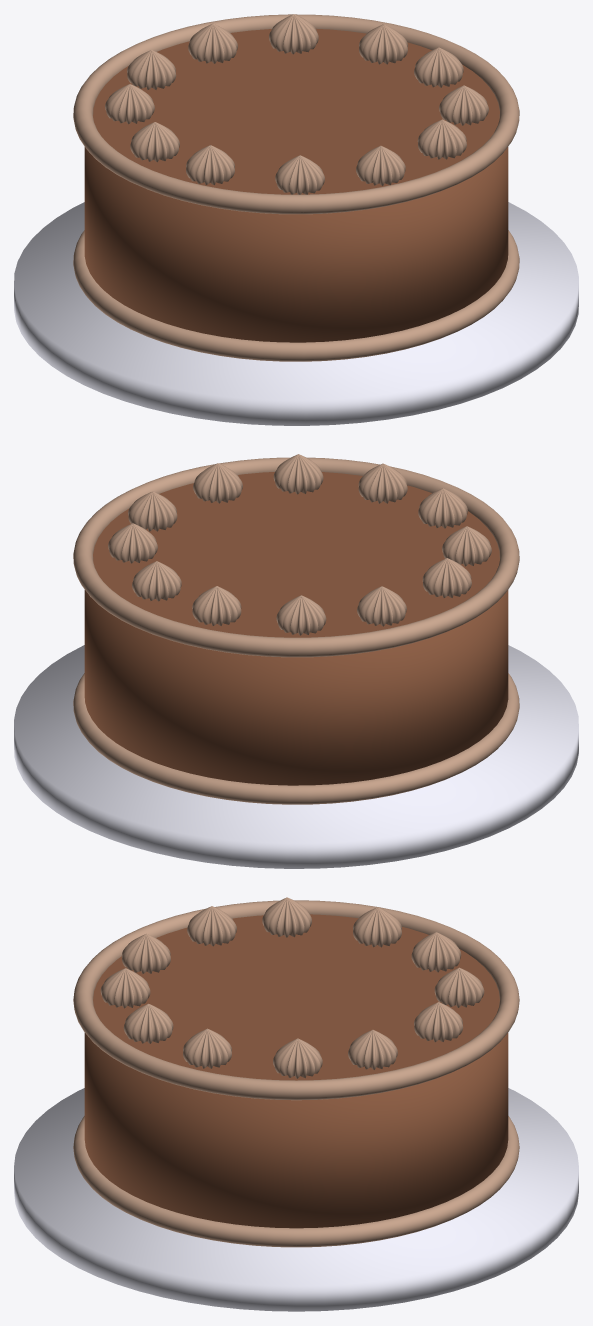
Rendered from round_chocolate_style1.glb.
3 renders of one model, top to bottom at view 1: azimuth 30°, elevation 25°; view 2: azimuth 150°, elevation 25°; view 3: azimuth 270°, elevation 25°, orthographic.
Visible parts, largest first — view 1: CakeBase, IcingStand, CakeTopCircle, IcingRing, IcingRing.001, design7, design6, design4, design10, design2, design1, design12 (+5 smaller); view 2: CakeBase, IcingStand, CakeTopCircle, IcingRing, IcingRing.001, design2, design1, design5, design9, design8, design3, design10 (+5 smaller); view 3: CakeBase, IcingStand, CakeTopCircle, IcingRing, IcingRing.001, design2, design11, design10, design7, design6, design5, design3 (+5 smaller).
Part boxes in pixels (x1=…): CakeBase: x1=84, y1=147, x2=508, y2=342; IcingStand: x1=14, y1=202, x2=578, y2=425; CakeTopCircle: x1=93, y1=28, x2=499, y2=194; IcingRing: x1=73, y1=14, x2=519, y2=214; IcingRing.001: x1=73, y1=230, x2=519, y2=361; design7: x1=186, y1=145, x2=234, y2=185; design6: x1=127, y1=50, x2=176, y2=89; design4: x1=414, y1=47, x2=463, y2=87; design10: x1=105, y1=84, x2=154, y2=124; design2: x1=356, y1=145, x2=405, y2=185; design1: x1=188, y1=23, x2=237, y2=63; design12: x1=275, y1=155, x2=324, y2=194; CakeBase: x1=84, y1=590, x2=508, y2=785; IcingStand: x1=14, y1=645, x2=578, y2=868; CakeTopCircle: x1=93, y1=472, x2=499, y2=637; IcingRing: x1=73, y1=457, x2=519, y2=657; IcingRing.001: x1=73, y1=673, x2=519, y2=804; design2: x1=358, y1=463, x2=407, y2=503; design1: x1=192, y1=586, x2=241, y2=625; design5: x1=273, y1=454, x2=323, y2=494; design9: x1=193, y1=463, x2=242, y2=503; design8: x1=108, y1=523, x2=157, y2=563; design3: x1=422, y1=558, x2=471, y2=597; design10: x1=357, y1=586, x2=406, y2=626; CakeBase: x1=84, y1=1032, x2=508, y2=1228; IcingStand: x1=14, y1=1088, x2=578, y2=1311; CakeTopCircle: x1=93, y1=914, x2=499, y2=1080; IcingRing: x1=73, y1=900, x2=519, y2=1100; IcingRing.001: x1=73, y1=1116, x2=519, y2=1247; design2: x1=100, y1=968, x2=150, y2=1008; design11: x1=414, y1=1002, x2=463, y2=1042; design10: x1=353, y1=907, x2=401, y2=947; design7: x1=187, y1=906, x2=236, y2=946; design6: x1=411, y1=932, x2=461, y2=972; design5: x1=123, y1=1003, x2=173, y2=1043; design3: x1=262, y1=897, x2=311, y2=937.
Size of the model in its own units: 4 by 1.75 by 4.
